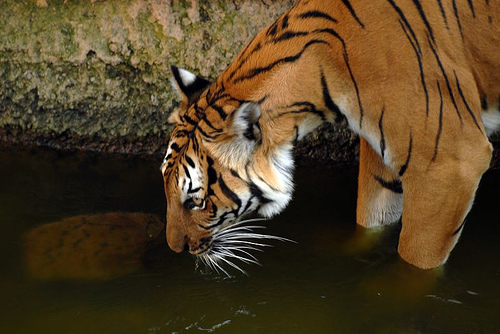Tigre: (149, 6, 491, 266)
